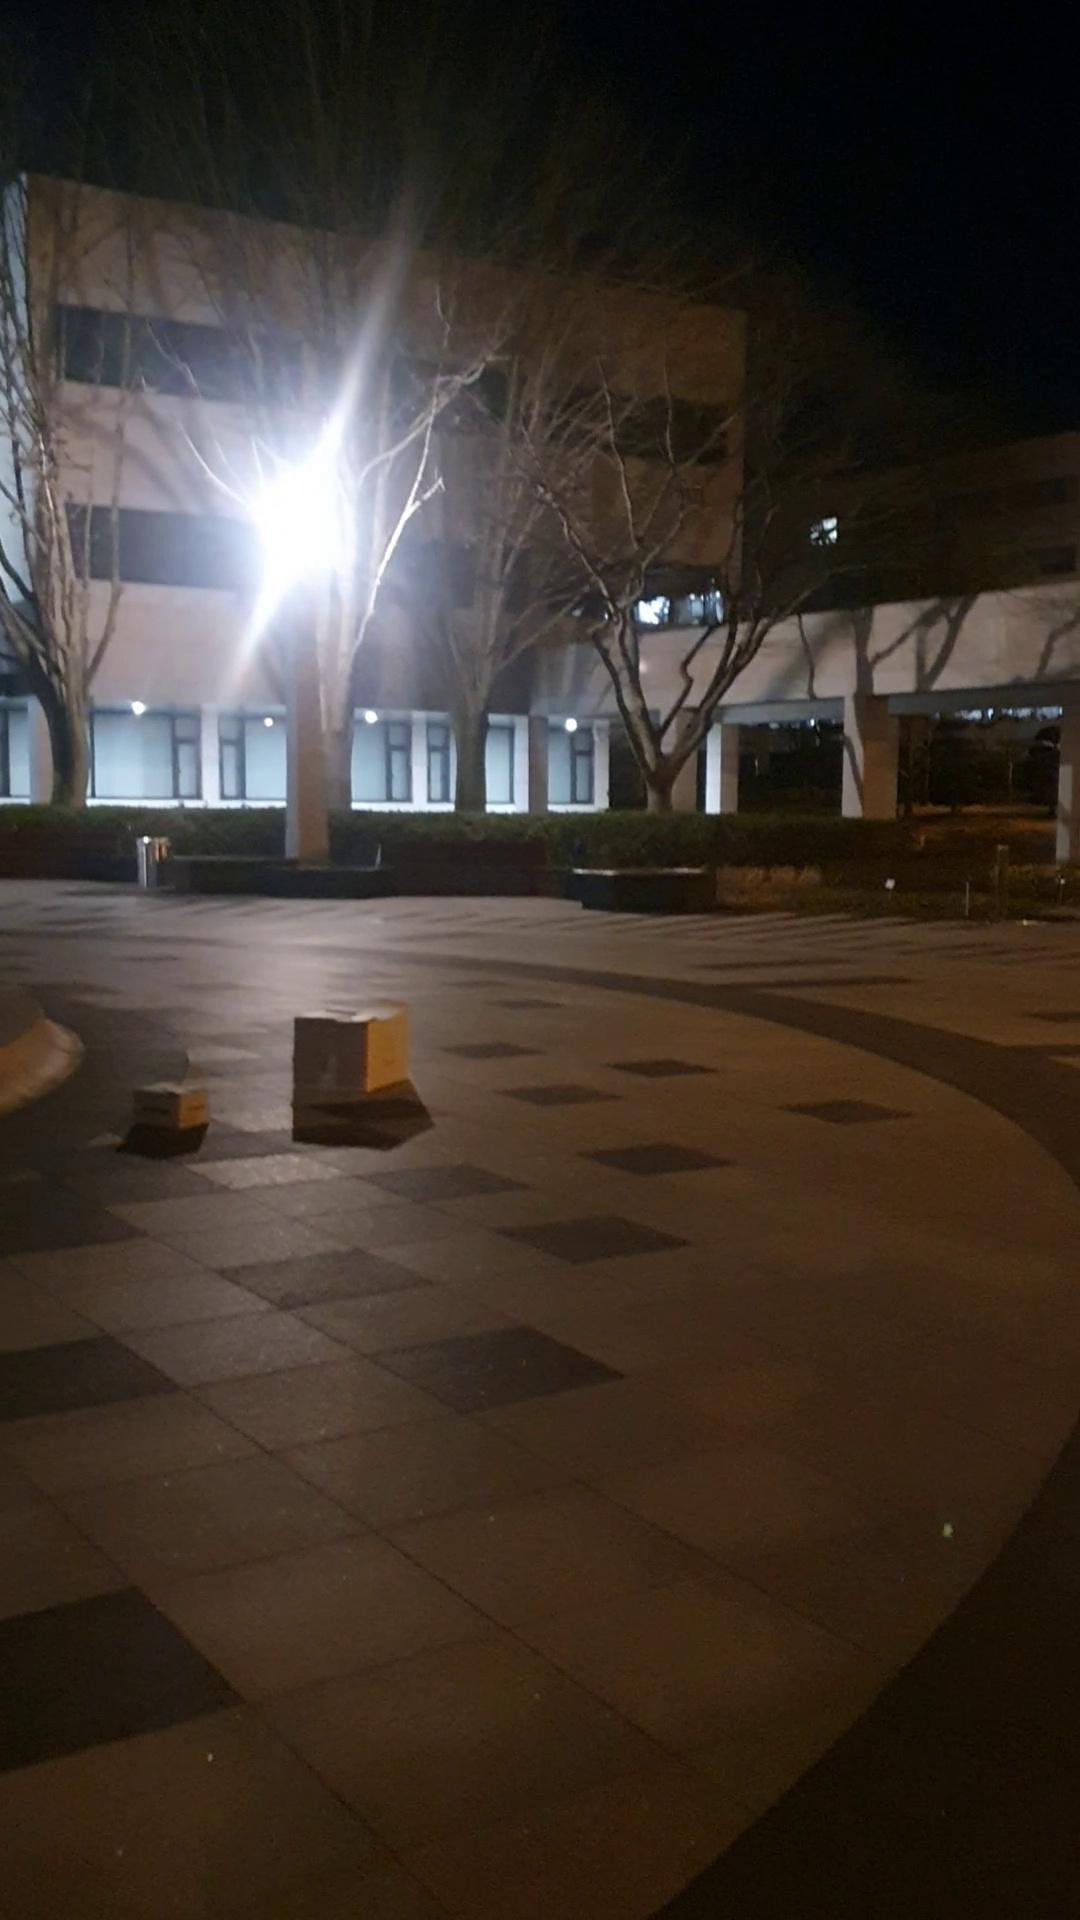Box: (287, 1004, 411, 1120), (127, 1075, 223, 1139)
